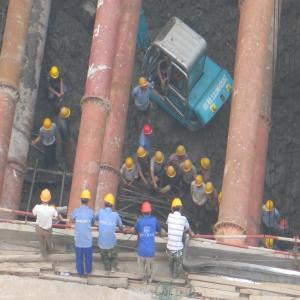none: (160, 61, 169, 75)
red: (142, 202, 153, 218), (143, 124, 154, 139), (280, 220, 290, 233)
yellow: (40, 189, 53, 206), (171, 199, 183, 214), (81, 190, 92, 206), (50, 66, 61, 81), (105, 194, 116, 208), (61, 107, 71, 121), (155, 152, 165, 166), (202, 158, 212, 172), (265, 200, 275, 214), (266, 237, 276, 250), (44, 119, 53, 133), (126, 158, 135, 172), (167, 166, 176, 180), (177, 146, 186, 160), (195, 175, 204, 189), (138, 148, 147, 161), (184, 160, 193, 173), (141, 78, 149, 92), (207, 183, 215, 196)
